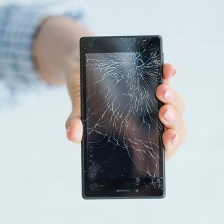phone: (77, 31, 169, 202)
